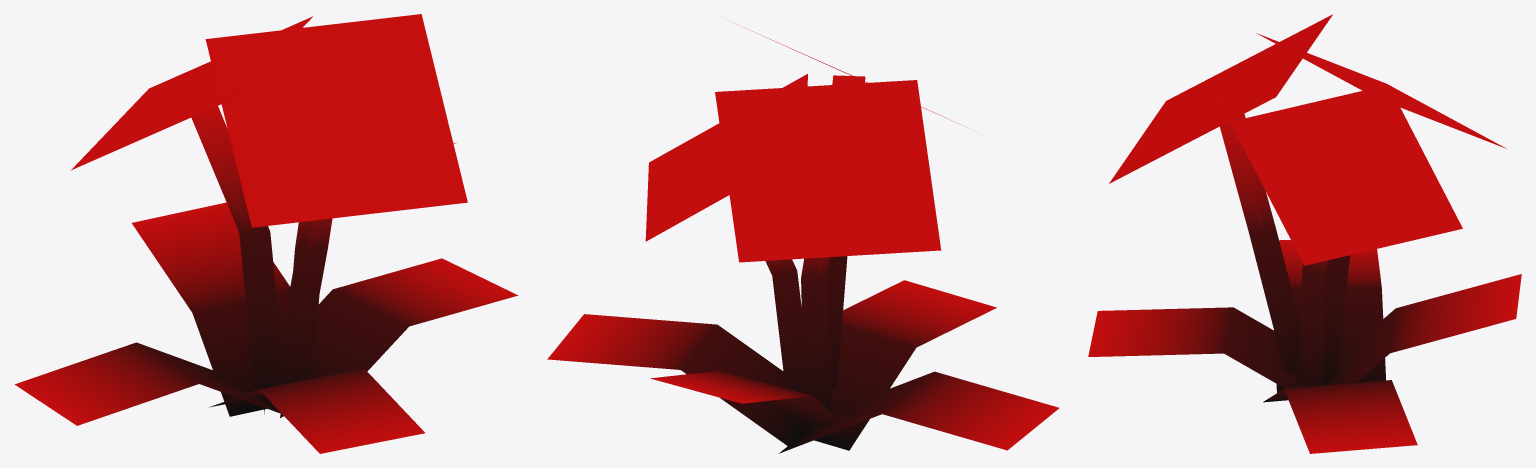
File: SM_Flower_06.fbx
The picture shows the model from 3 angles, left to right: view 1: azimuth 30°, elevation 25°; view 2: azimuth 150°, elevation 25°; view 3: azimuth 270°, elevation 25°; orthographic projection. The views are drawn at different scales.
Parts seen in each view (by area): view 1: SM_Nature_Flower_06; view 2: SM_Nature_Flower_06; view 3: SM_Nature_Flower_06.
Part boxes in pixels (x1,y1,x2,y2): SM_Nature_Flower_06: (14, 14, 518, 453); SM_Nature_Flower_06: (547, 18, 1059, 453); SM_Nature_Flower_06: (1088, 14, 1521, 453).
Size of the model in its own units: 28.1 by 22.05 by 23.88.
